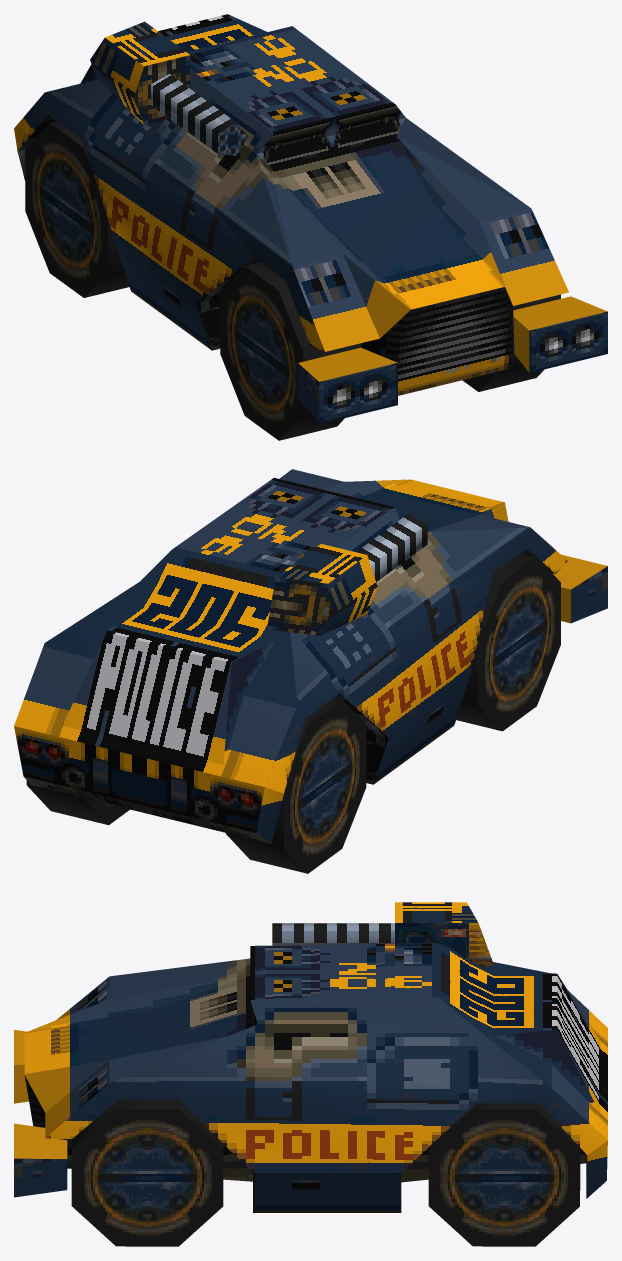
File: APC.obj
3 renders of one model, top to bottom at view 1: azimuth 30°, elevation 25°; view 2: azimuth 150°, elevation 25°; view 3: azimuth 270°, elevation 25°, orthographic. The views are drawn at different scales.
Visible parts, largest first — view 1: APC.DAT, Apwheel.dat, Apwheel.dat.002, Apwheel.dat.001; view 2: APC.DAT, Apwheel.dat, Apwheel.dat.002, Apwheel.dat.003; view 3: APC.DAT, Apwheel.dat.001, Apwheel.dat.003.
Boxes of the visible parts, left/top/right/bottom form: APC.DAT: left=14, top=14, right=607, bottom=424; Apwheel.dat: left=220, top=261, right=361, bottom=440; Apwheel.dat.002: left=25, top=121, right=129, bottom=297; Apwheel.dat.001: left=463, top=294, right=560, bottom=391; APC.DAT: left=14, top=469, right=607, bottom=843; Apwheel.dat: left=456, top=553, right=560, bottom=731; Apwheel.dat.002: left=225, top=697, right=366, bottom=873; Apwheel.dat.003: left=26, top=780, right=129, bottom=825; APC.DAT: left=14, top=902, right=607, bottom=1212; Apwheel.dat.001: left=71, top=1099, right=223, bottom=1246; Apwheel.dat.003: left=428, top=1103, right=580, bottom=1246.
Size of the model in its own units: 0.4369 by 0.3743 by 0.8506.
Materials: 14 (14 with a texture image).
